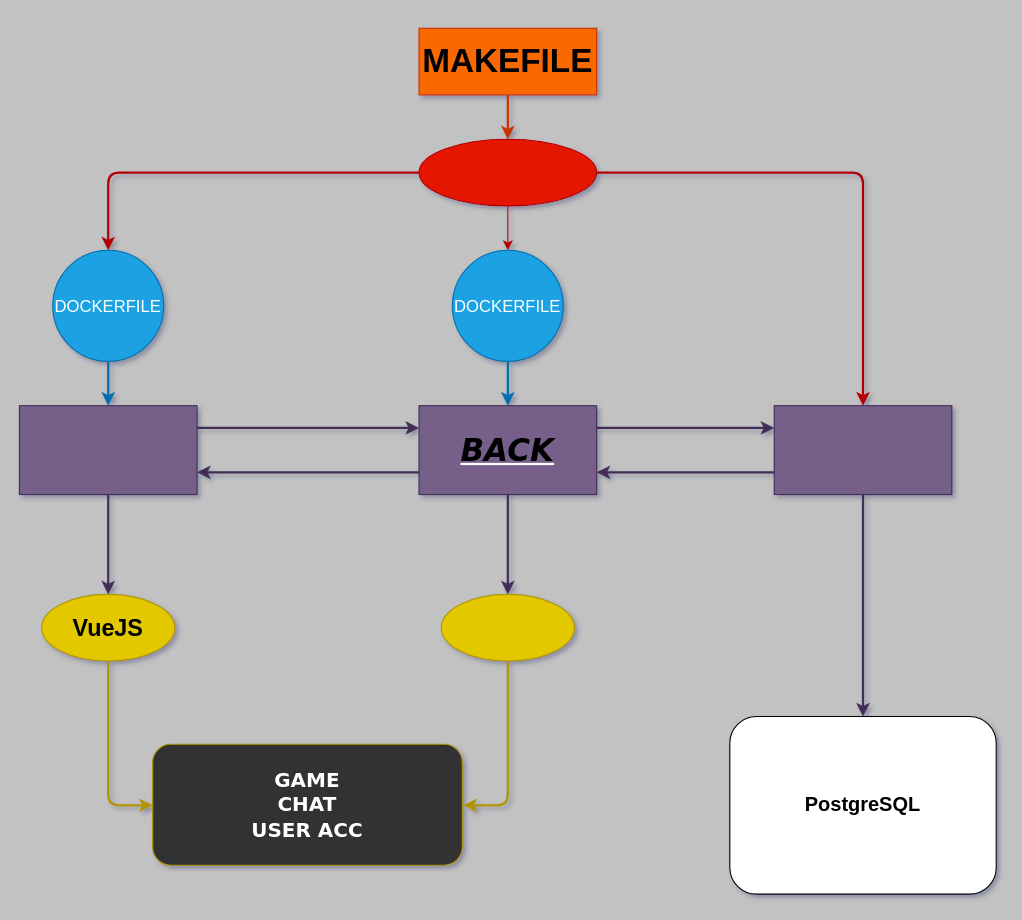
This 1022x920 diagram has some shape labels left out. Each missing label, with the centre of its shape:
DataBase: point 862,450
DockerCompose: point 507,172
FRONT: point 107,450
NestJS: point 507,627
